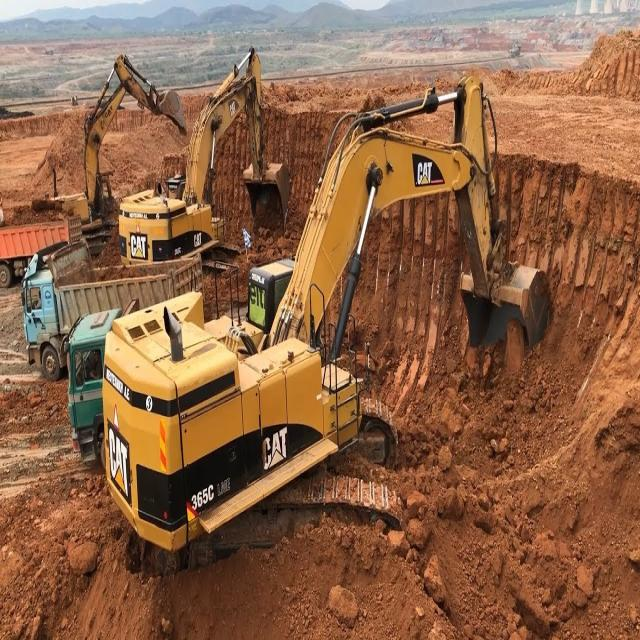excavator: (103, 79, 553, 574), (118, 48, 290, 272), (42, 56, 188, 255)
